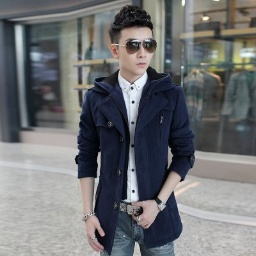face: (110, 5, 156, 76)
